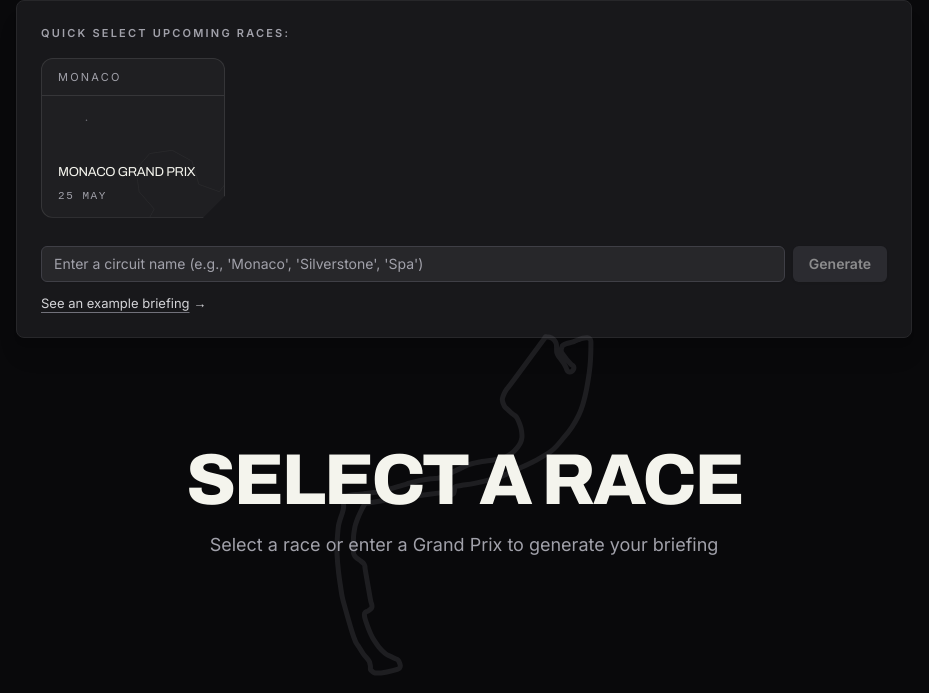
BriefingChat busy and limit states › says when the daily budget resets
This screenshot has width=929, height=693.
Type "Monaco" into the field labelled "circuit name".
click(413, 264); type("Monaco")  # box [41,246,785,282]
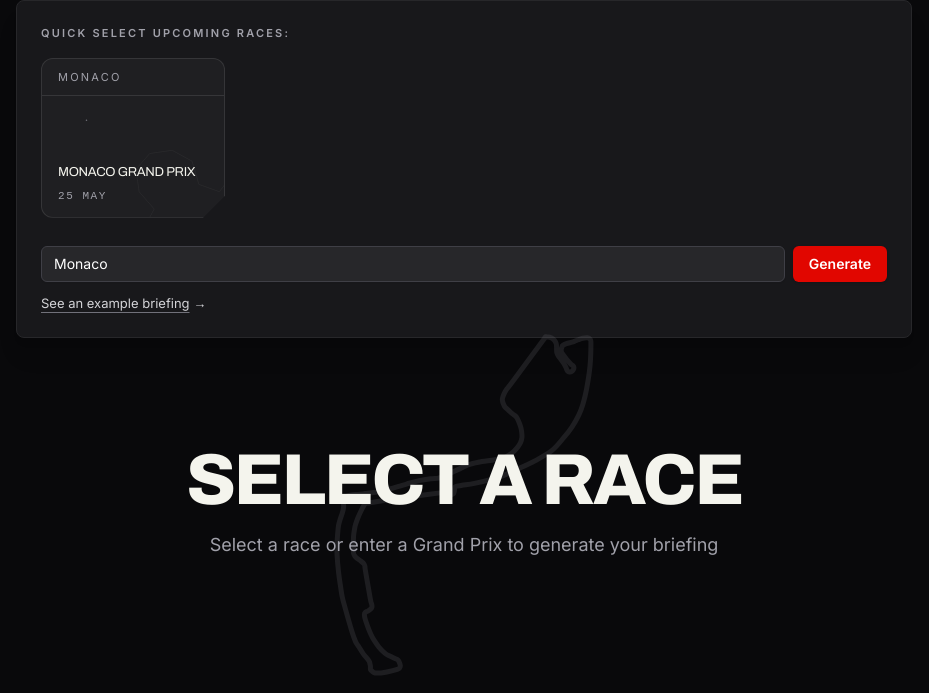
Click the button "Generate".
click(840, 264)  # box [793,246,887,282]
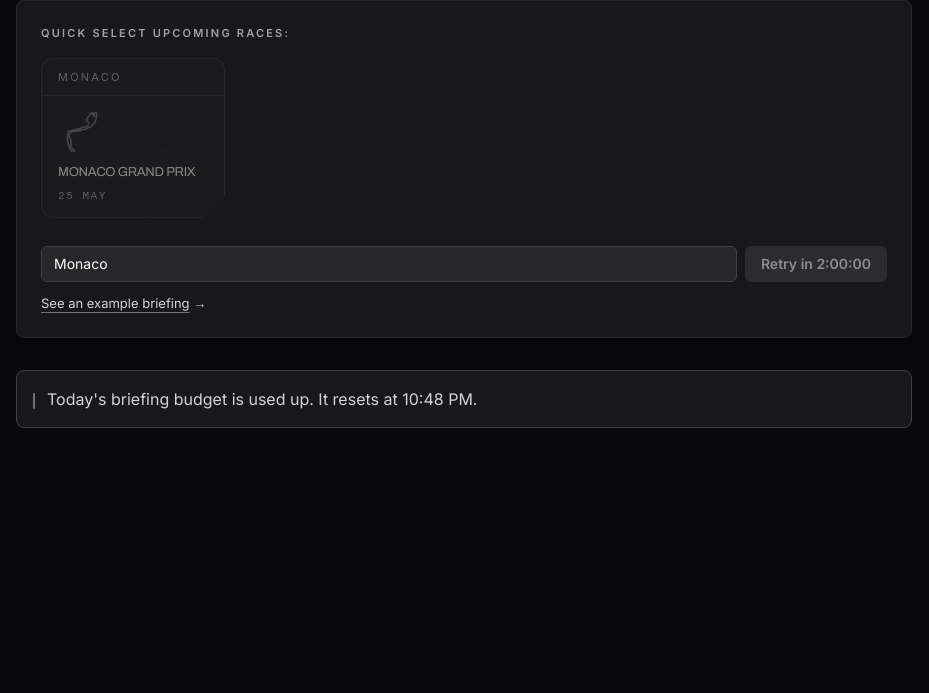
Check: the message reads "Today's briefing budget is used up. It resets at 10:48 PM.", box [47,389,477,409]
Check: the button "Retry in 2:00:00" is disabled, box [745,246,887,282]
